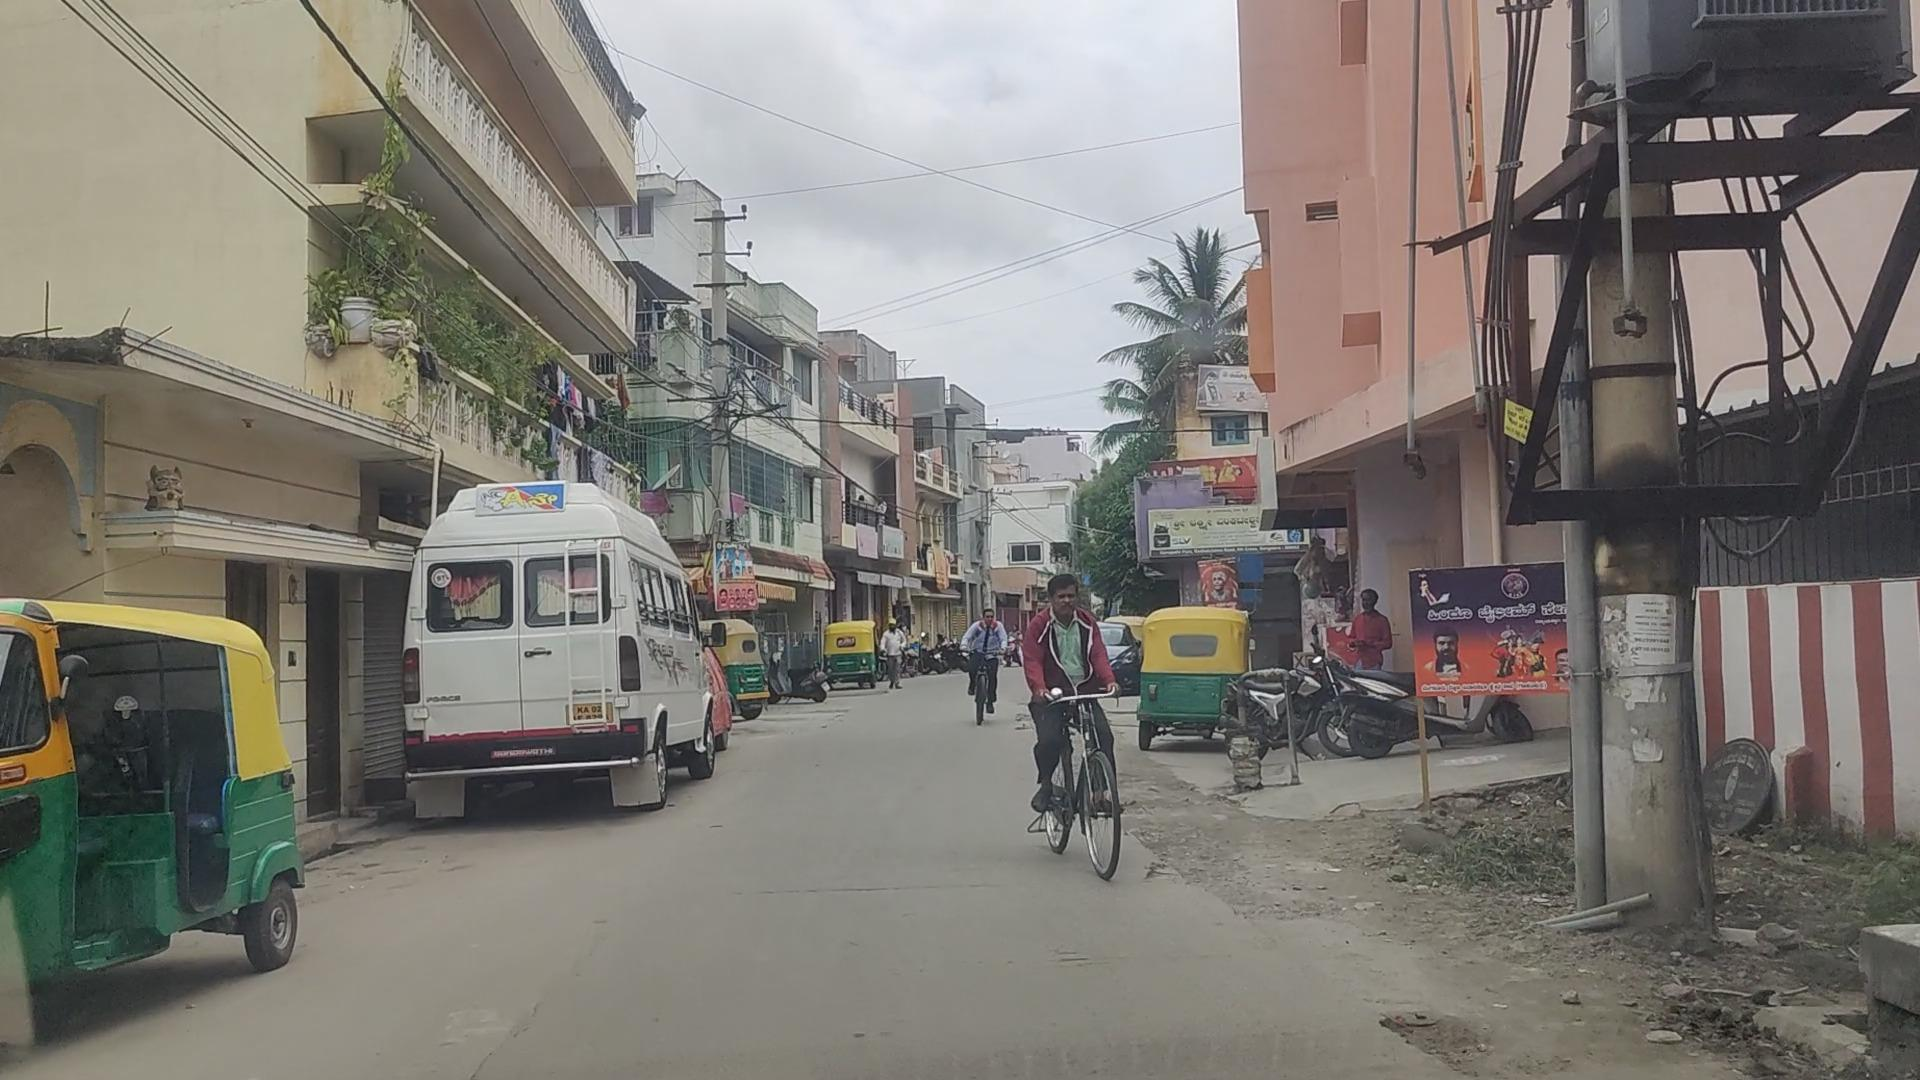HMV: (397, 495, 695, 819)
LMV: (1018, 568, 1125, 889)
RoadDamages: (1188, 807, 1365, 964)
